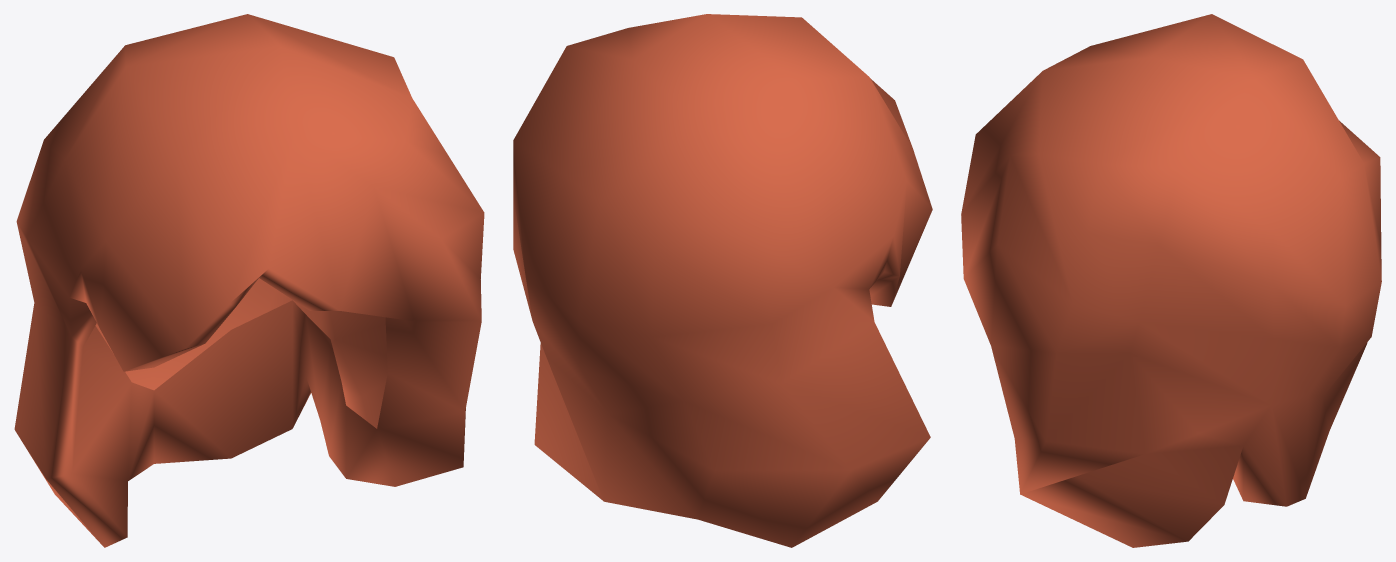
The model's file is HairCurlyGinger.fbx.
3 renders of one model, left to right at view 1: azimuth 30°, elevation 25°; view 2: azimuth 150°, elevation 25°; view 3: azimuth 270°, elevation 25°, orthographic. The views are drawn at different scales.
Visible parts, largest first — view 1: HairCurlyGinger; view 2: HairCurlyGinger; view 3: HairCurlyGinger.
Part boxes in pixels (bbox=[...]): HairCurlyGinger: bbox=[14, 14, 484, 547]; HairCurlyGinger: bbox=[513, 14, 932, 547]; HairCurlyGinger: bbox=[961, 14, 1381, 547].
Bounding box in the file's own units: 61.42 × 68.25 × 58.89.
